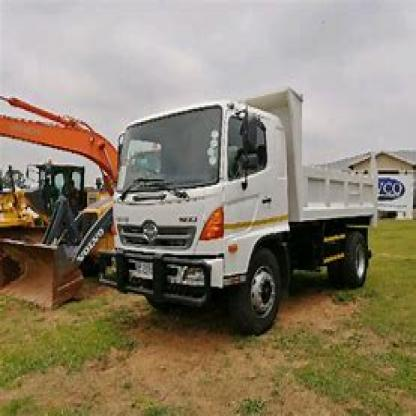dump_truck: (80, 68, 382, 344)
